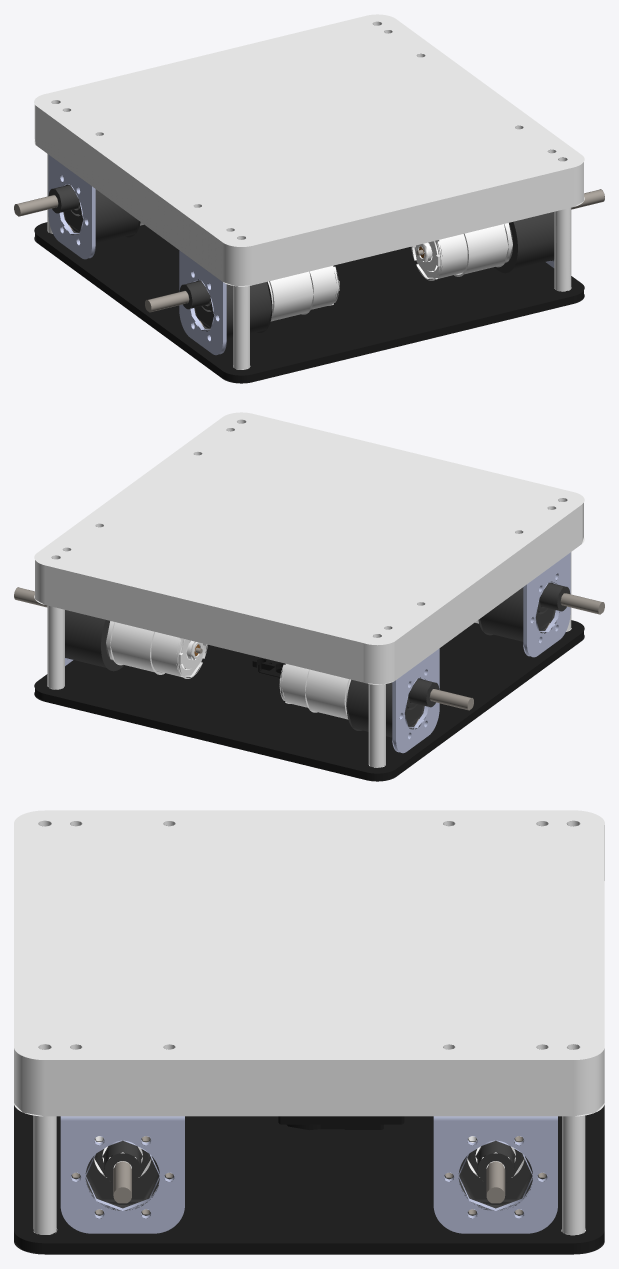
Rendered from base_assembly.dae.
3 views of the same model, one above another, from view 1: azimuth 30°, elevation 25°; view 2: azimuth 150°, elevation 25°; view 3: azimuth 270°, elevation 25° (orthographic). The views are drawn at different scales.
Visible parts, largest first — view 1: base_assembly.IGS; view 2: base_assembly.IGS; view 3: base_assembly.IGS.
Boxes of the visible parts, x1=… form: base_assembly.IGS: x1=14, y1=14, x2=604, y2=383; base_assembly.IGS: x1=14, y1=412, x2=604, y2=781; base_assembly.IGS: x1=14, y1=810, x2=604, y2=1254.
Bounding box in the file's own units: 240 × 73.65 × 190.
